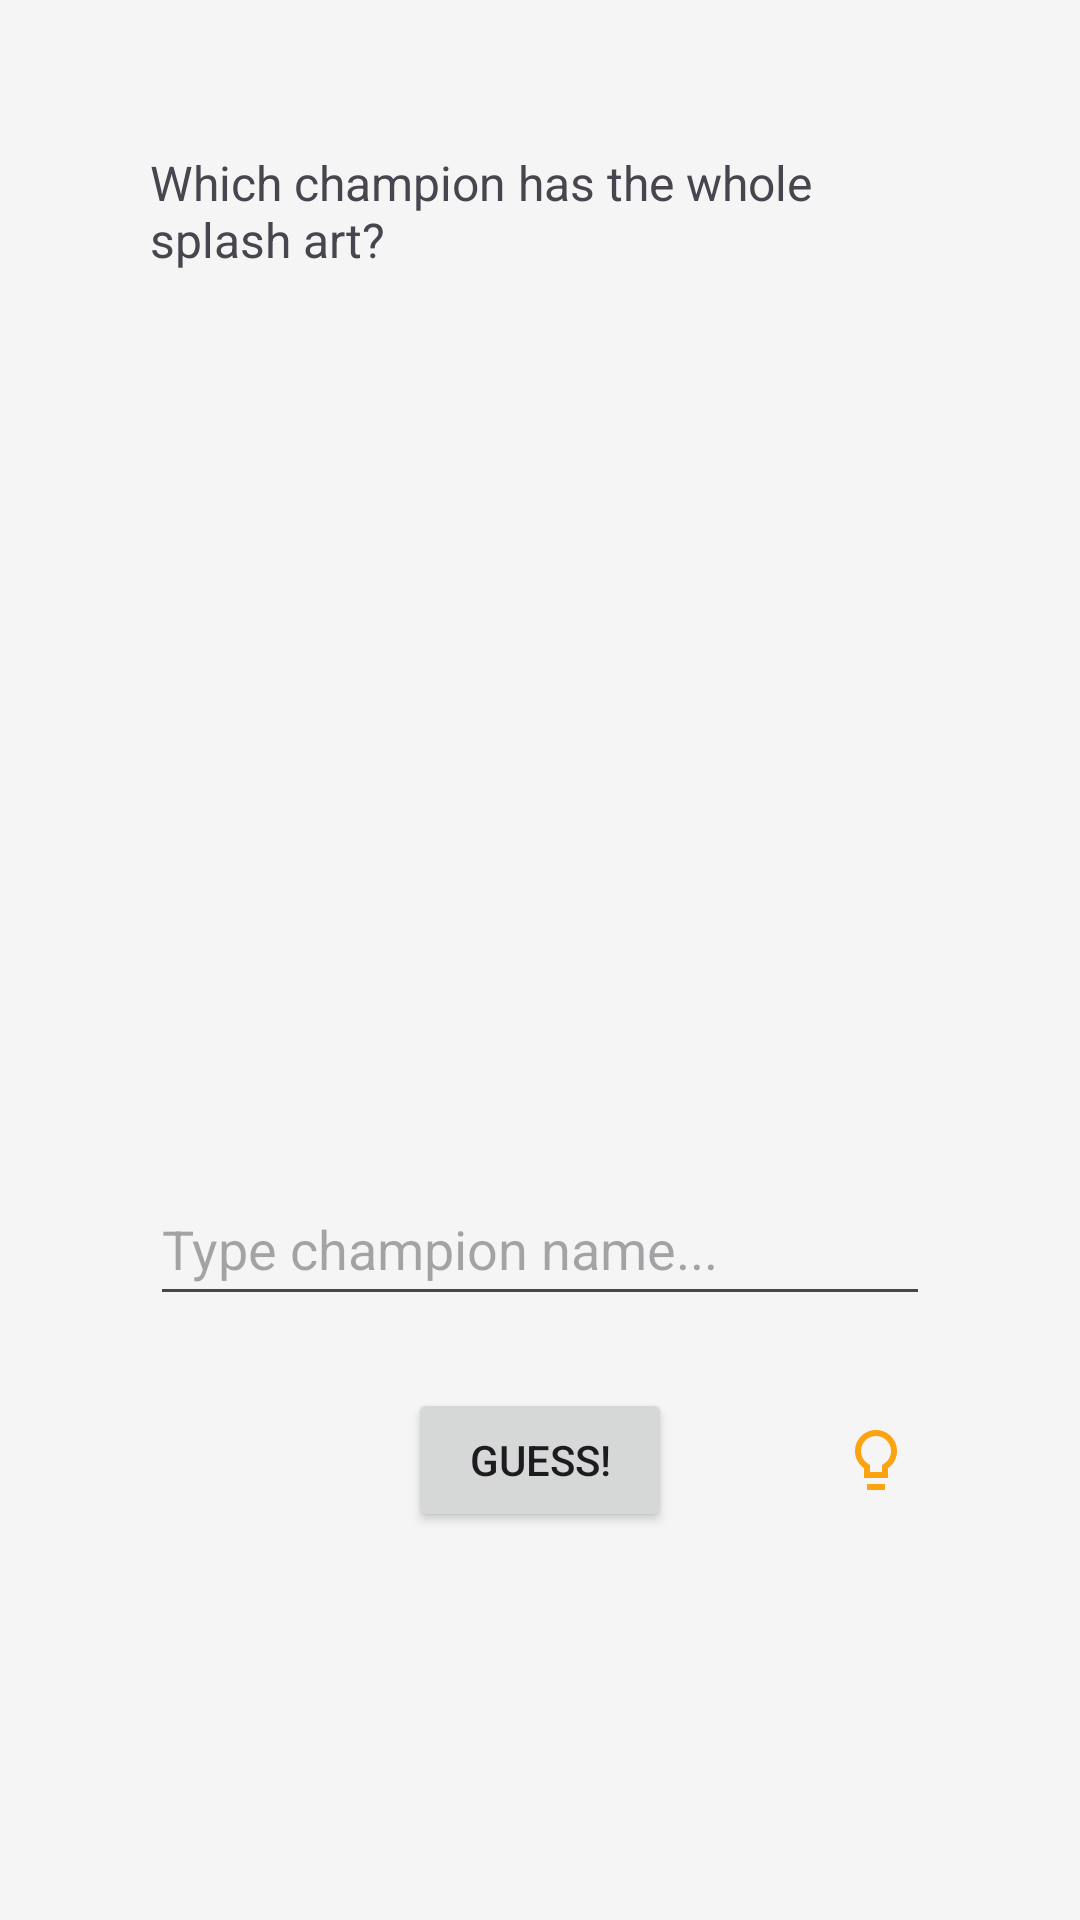

Named icons in this screenshot (1080*1920) and their bounding boxes, [x1=x1, y1=y1, x2=x2, y2=y2]:
solve: [x1=855, y1=1430, x2=897, y2=1490]
